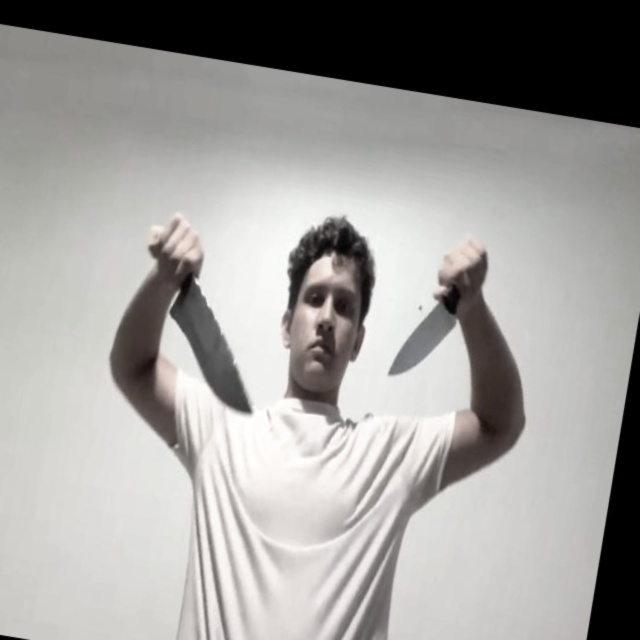Sharp-Object: (155, 276, 271, 414), (389, 295, 458, 381)
